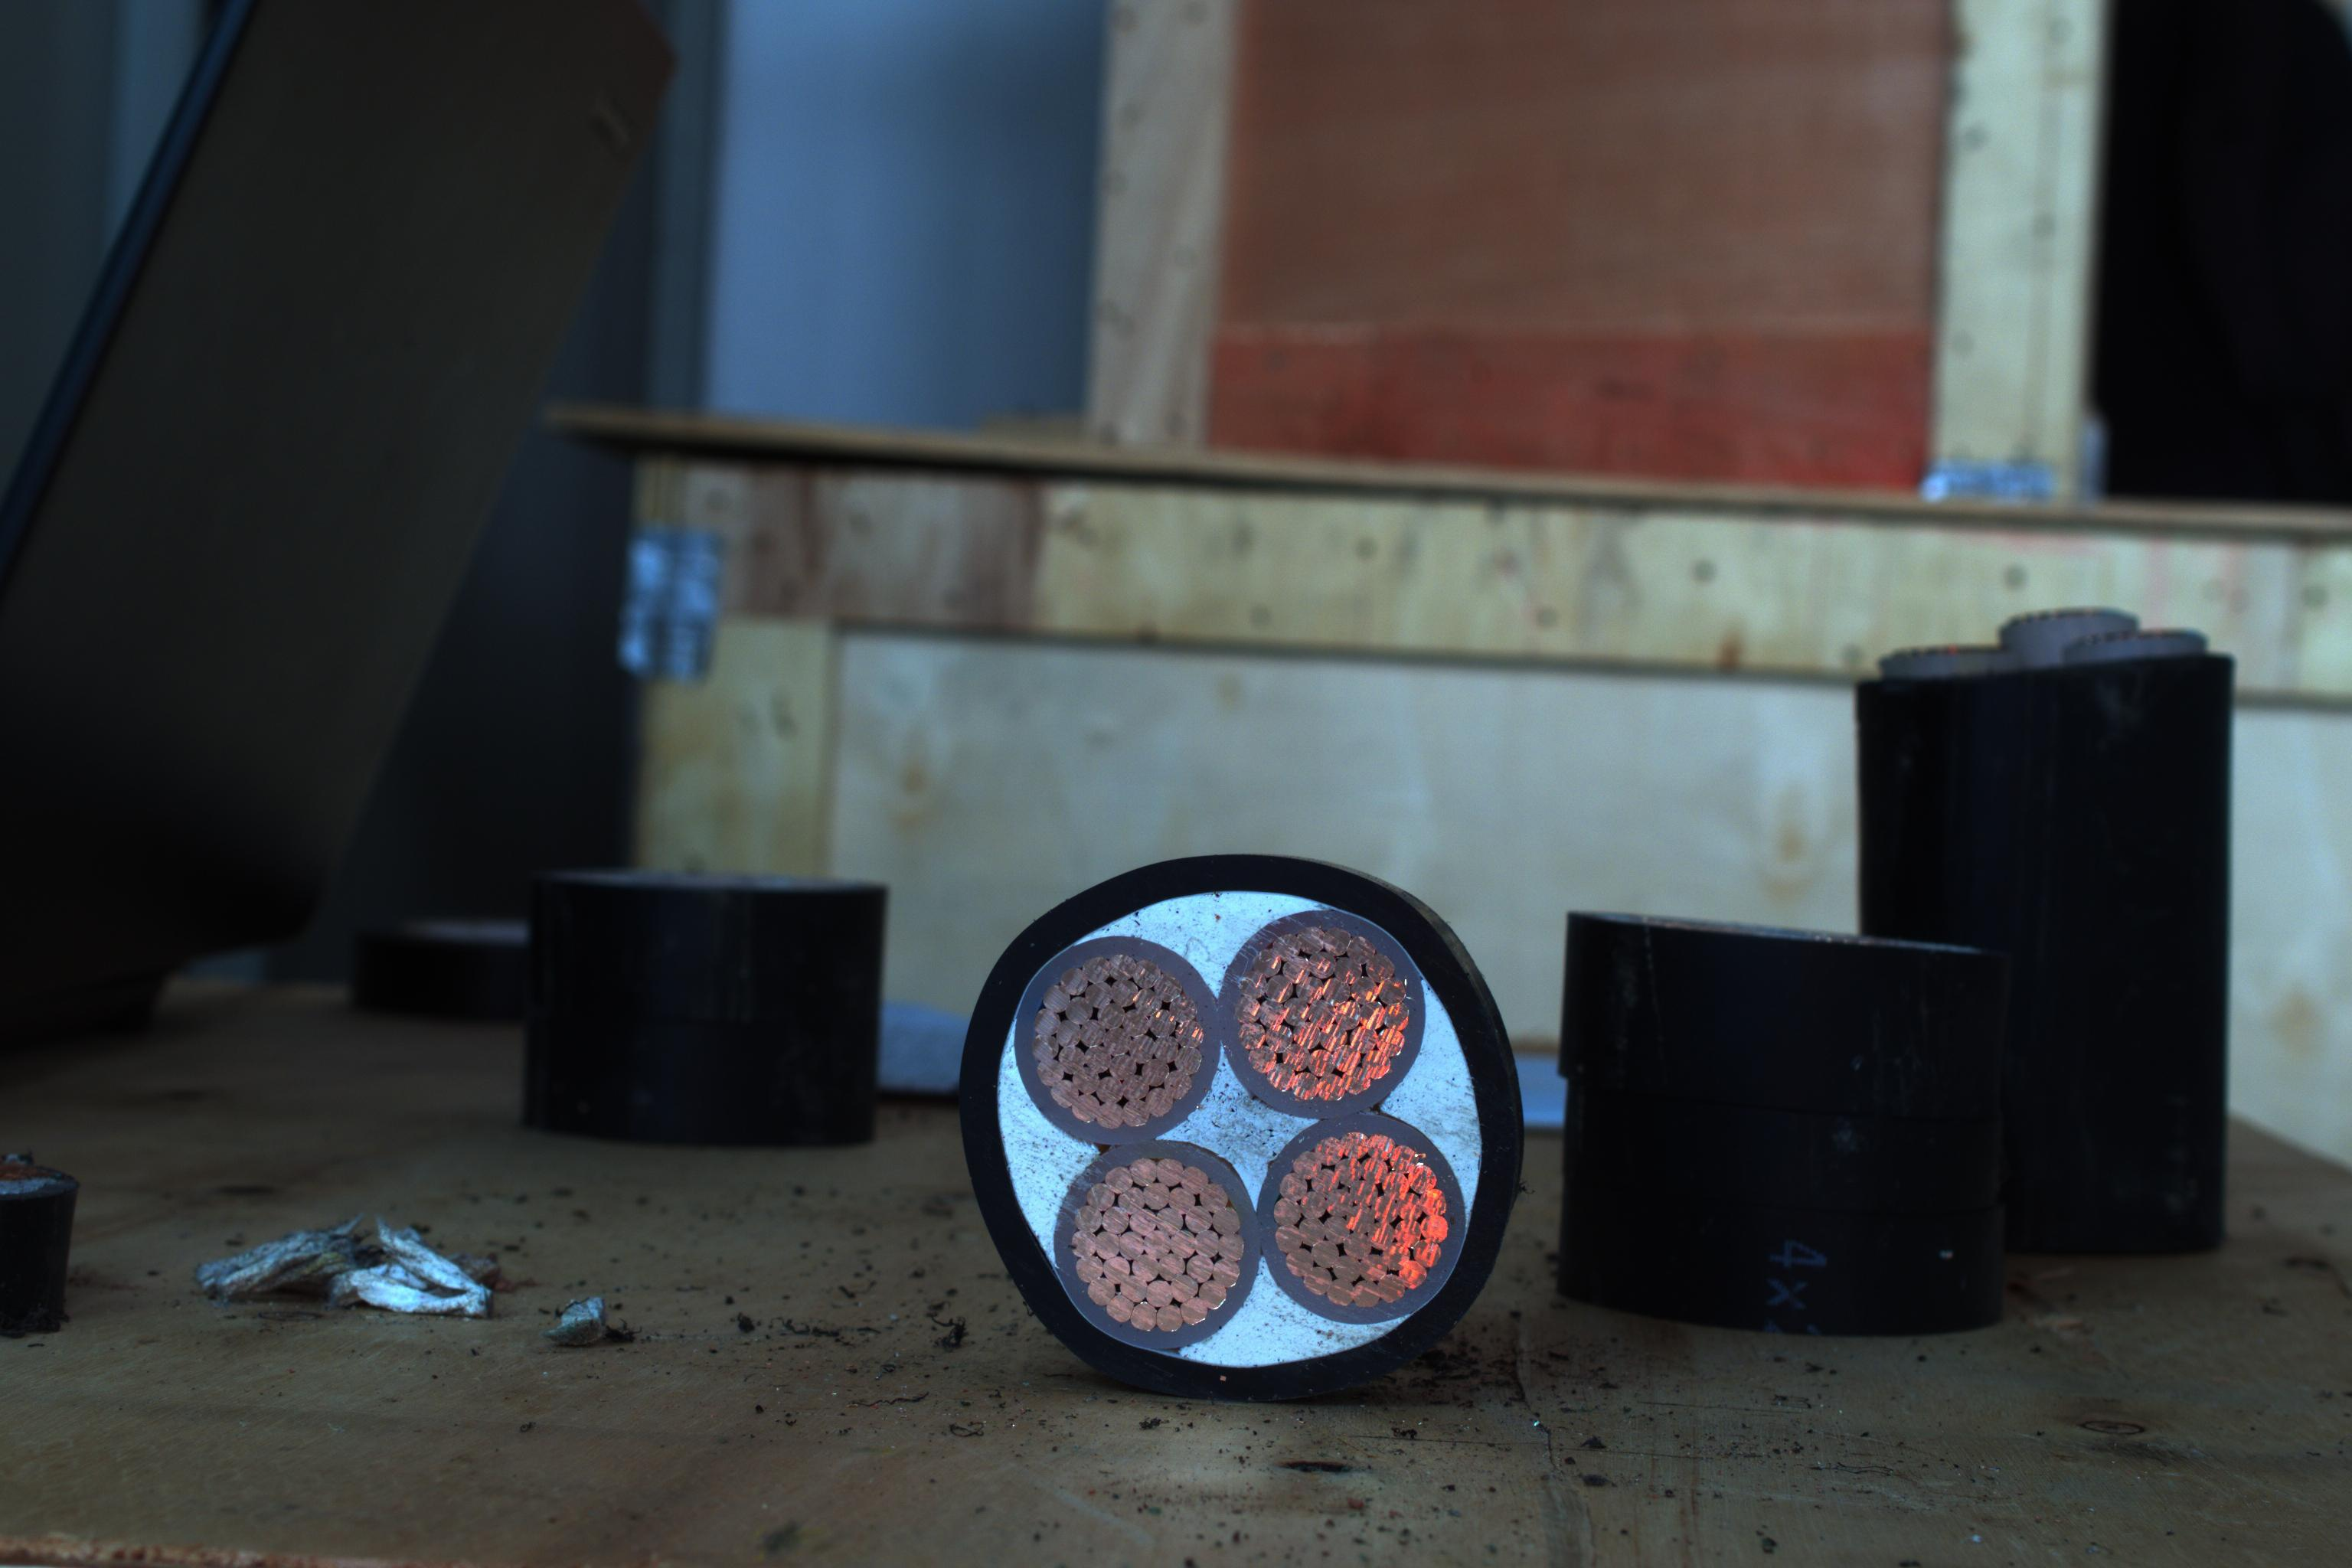YJV_0.6_1kV_4x240: (971, 868, 1501, 1400)
